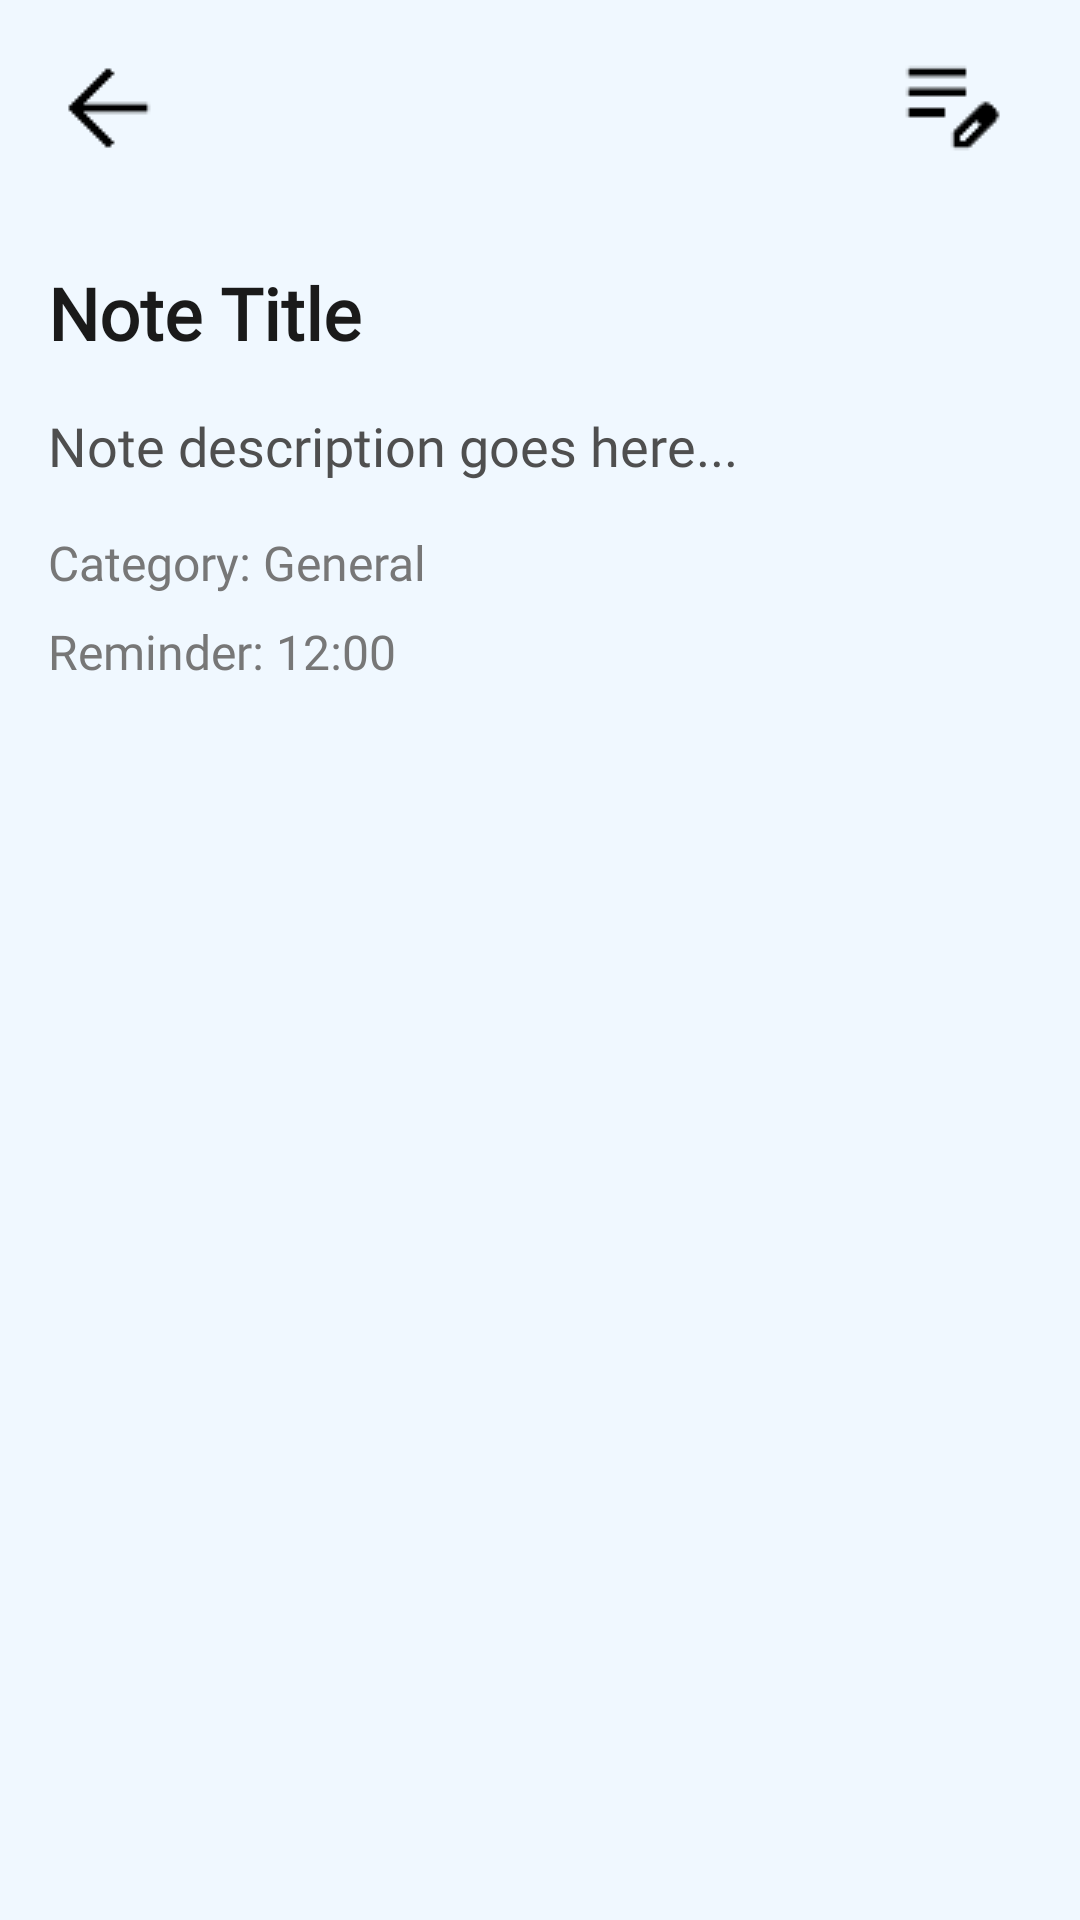

Icon click points for this 1080px×1920px phone screenshot, format (x,y):
Back: (109,108)
Edit: (953,108)
